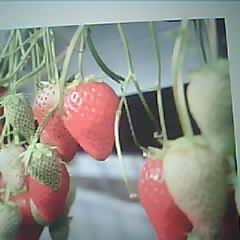straw-ripe: (138, 150, 192, 240), (62, 82, 119, 159), (35, 80, 79, 162)
straw-unripe: (165, 137, 229, 235), (187, 60, 235, 152), (26, 144, 61, 191), (6, 94, 35, 140), (0, 144, 26, 189), (0, 200, 22, 240)
